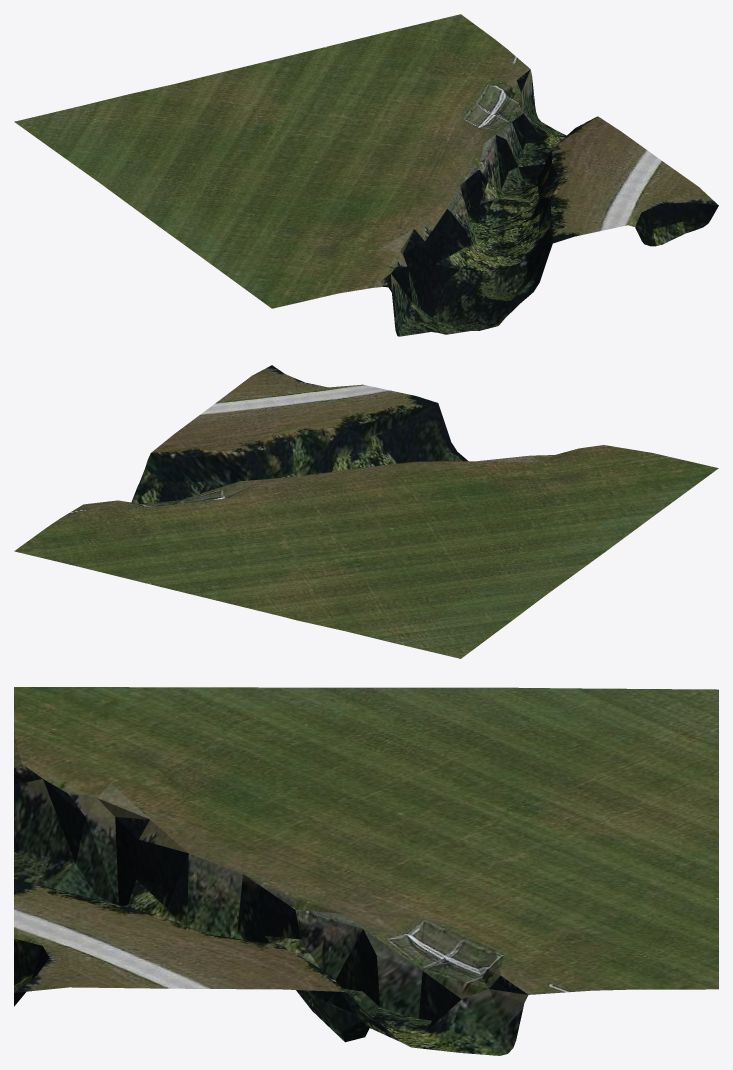
The model's file is map_15_8180_13787.dae.
3 views of the same model, one above another, from view 1: azimuth 30°, elevation 25°; view 2: azimuth 150°, elevation 25°; view 3: azimuth 270°, elevation 25° (orthographic). The views are drawn at different scales.
Parts seen in each view (by area): view 1: Ter0; view 2: Ter0; view 3: Ter0.
Part boxes in pixels (x1,y1,x2,y2): Ter0: (14,14,718,336); Ter0: (14,365,718,658); Ter0: (14,687,718,1055).
Size of the model in its own units: 63.88 by 63.88 by 11.5.
3 materials, 3 textured.
